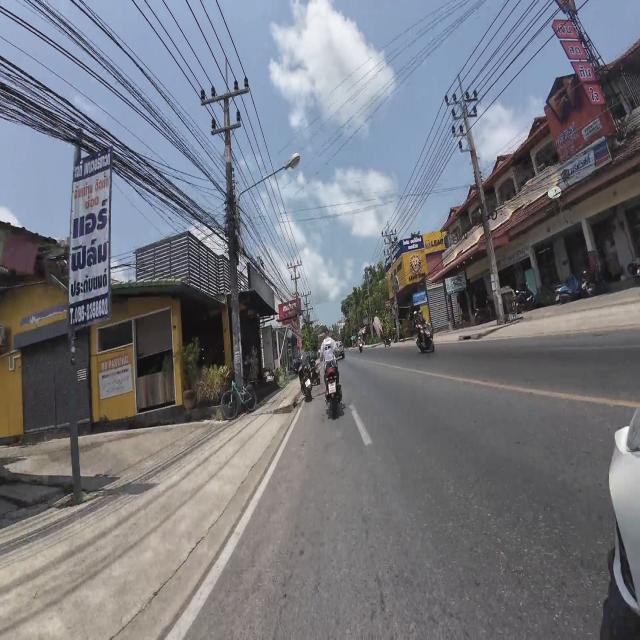car: (335, 341, 344, 358)
motorcycle: (601, 409, 639, 639), (326, 366, 341, 418), (299, 362, 312, 401), (417, 323, 434, 352)
